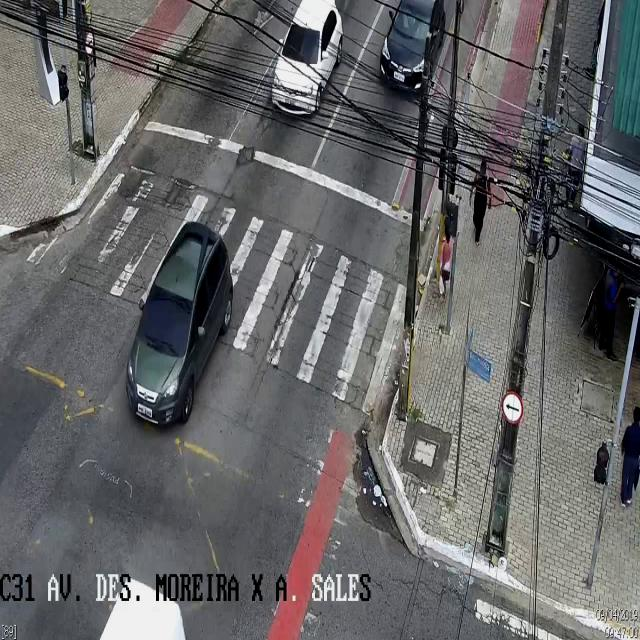Car: (121, 223, 233, 431), (268, 0, 346, 122), (375, 0, 448, 95)
